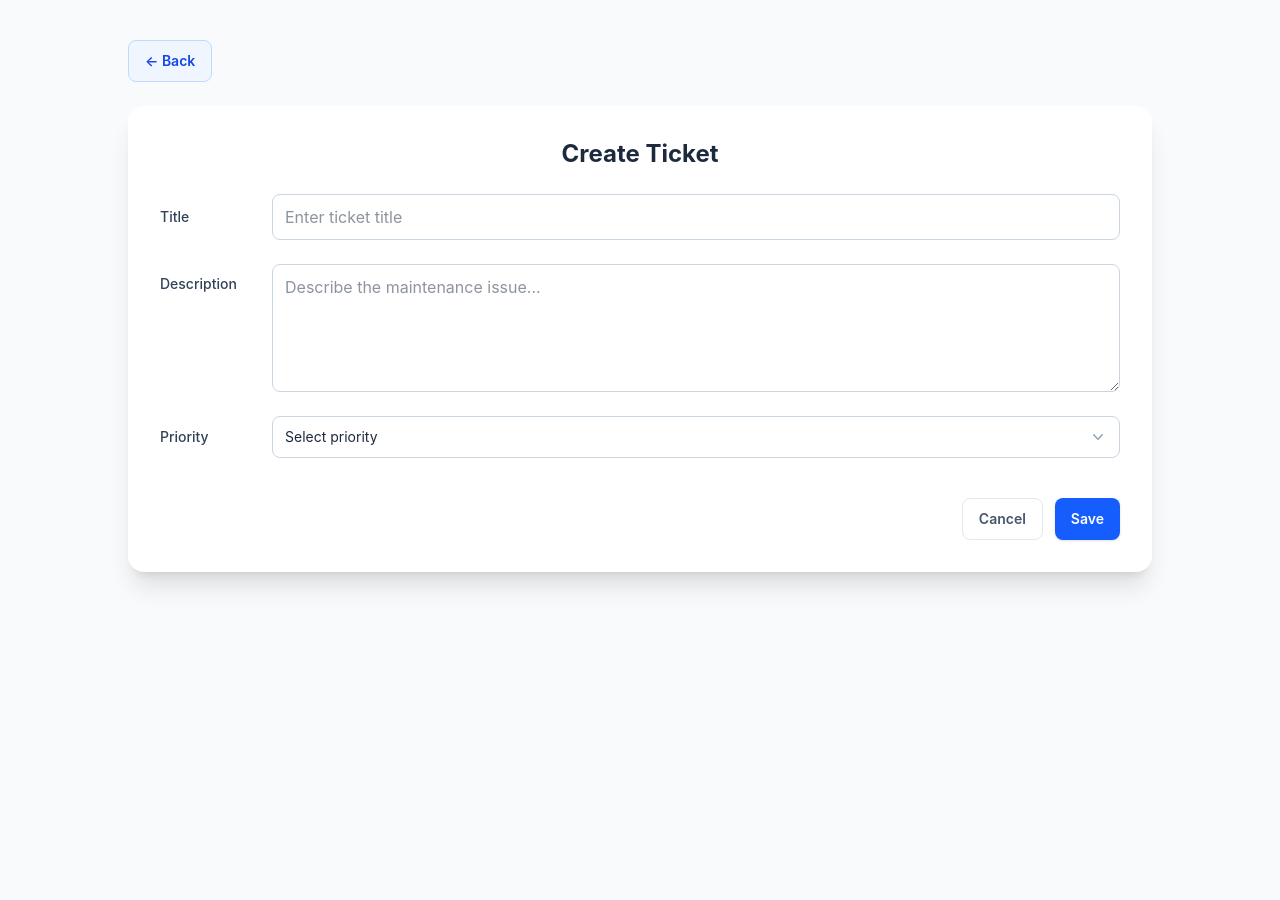
it: CreateTicket page › waits for confirmation, sends the exact request, displays the result, and resets the form
Type "Repair leaking pipe" into the field labelled "Title". click: (696,217)
box: [272, 194, 1120, 240]
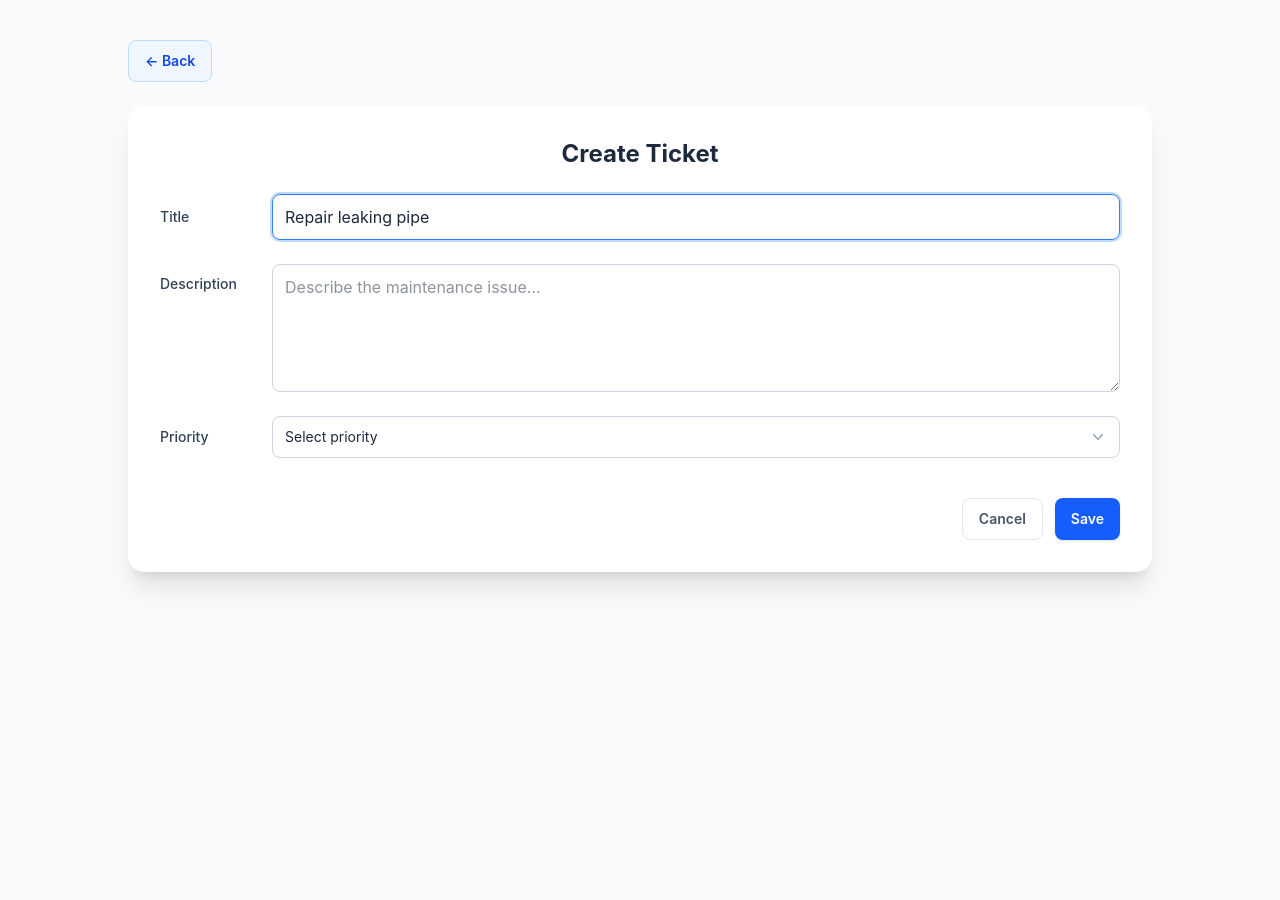
Type "Pipe leak in kitchen" into the text box labelled "Description". click: (696,328)
box: [272, 264, 1120, 392]
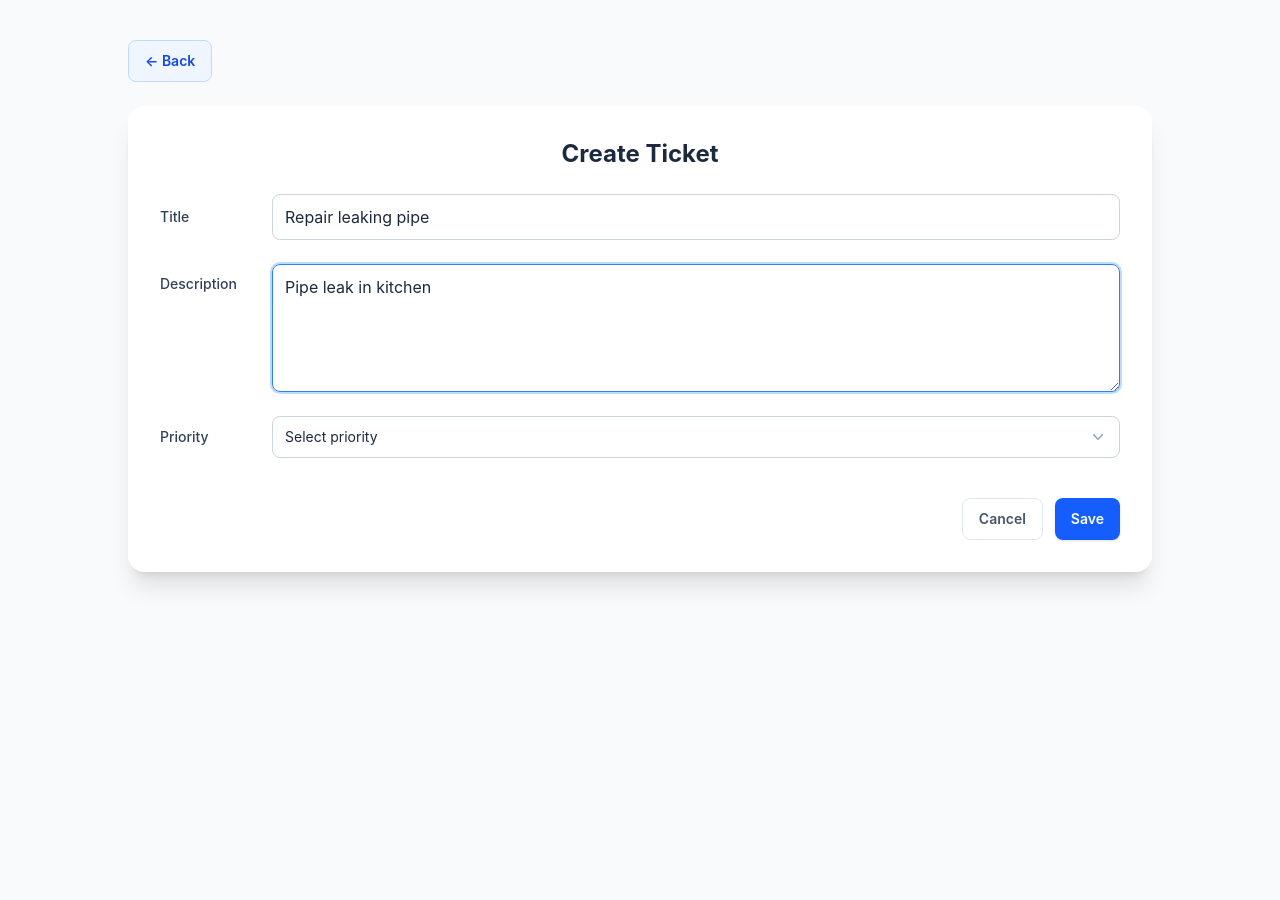
Select "High" in the dropdown labelled "Priority". click: (696,437)
box: [272, 416, 1120, 458]
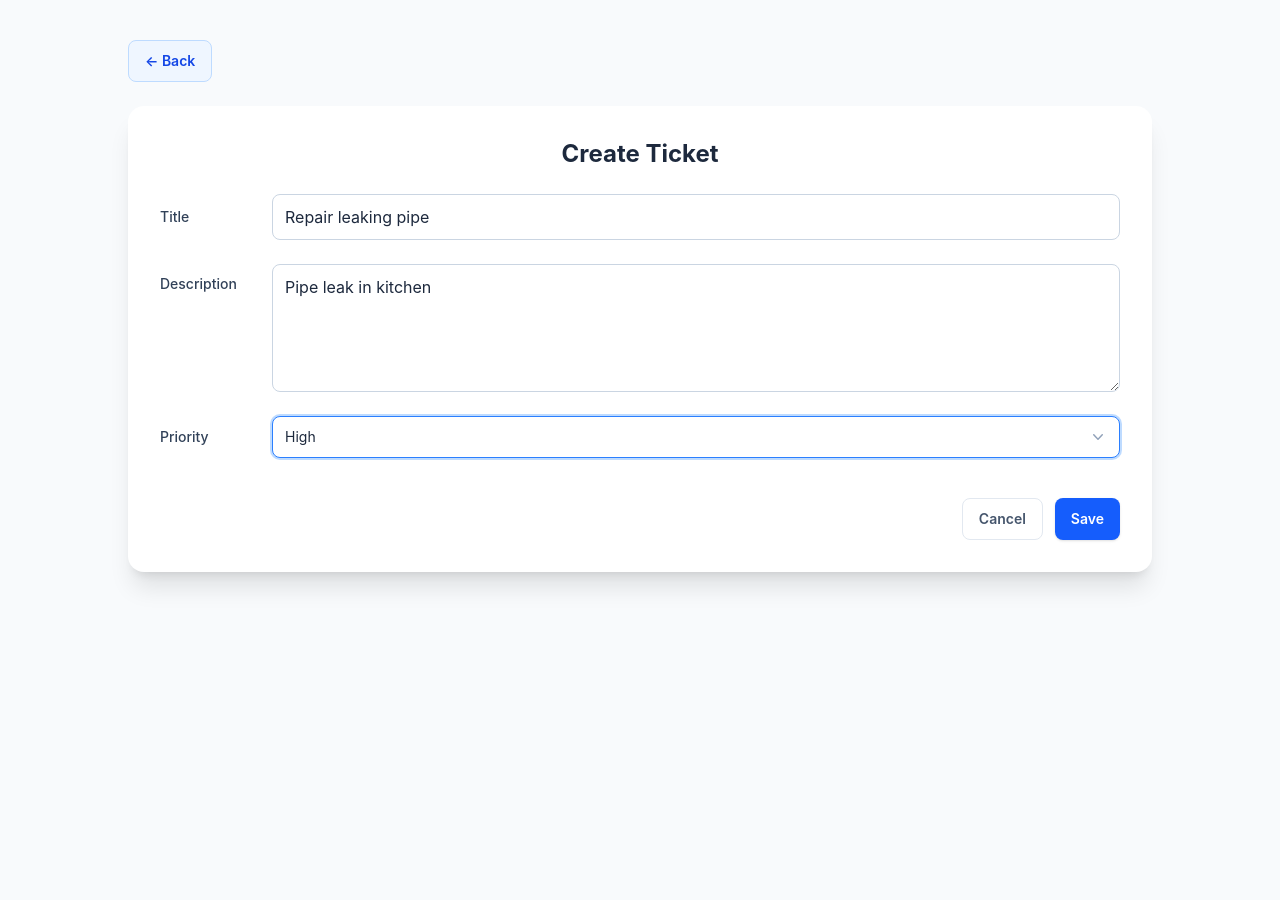
Click the button "Save". click: (1087,519)
box: [1055, 498, 1120, 540]
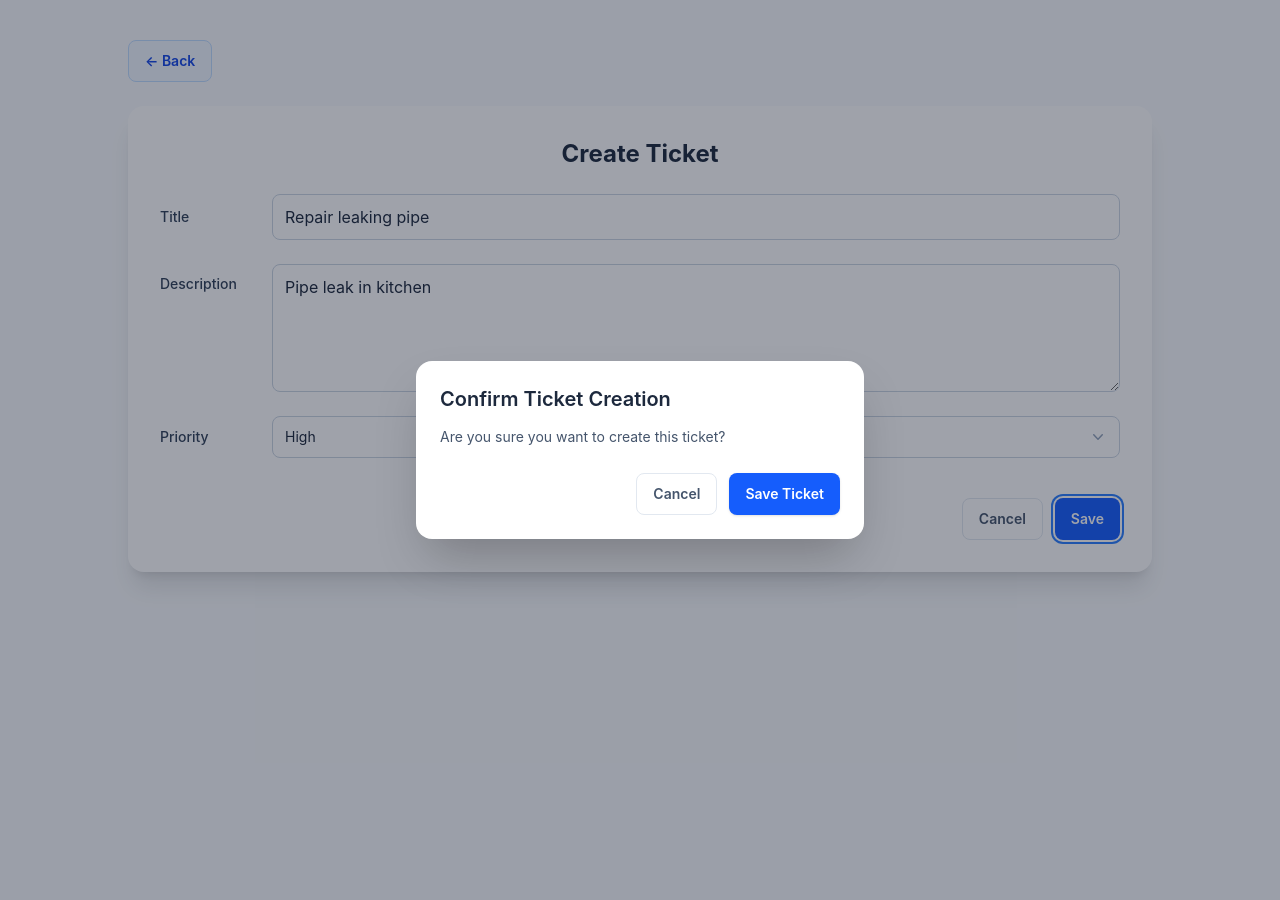
Result: the heading "Confirm Ticket Creation" is shown at [440, 387, 671, 411]
Click the button "Save Ticket". click: (785,494)
box: [729, 473, 840, 515]
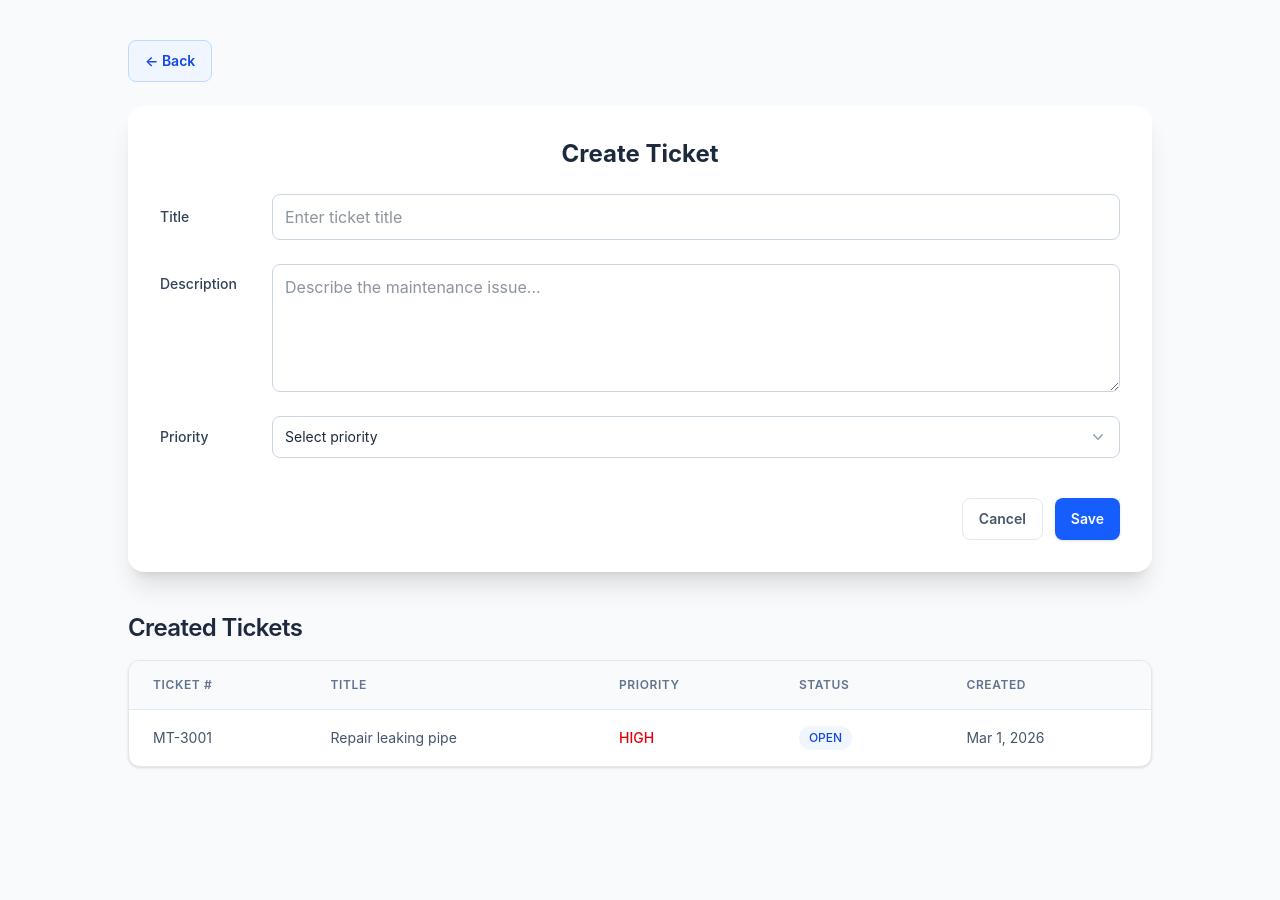
Result: the heading "Created Tickets" is shown at [128, 613, 302, 642]
Result: the text "Repair leaking pipe" is shown at [306, 710, 595, 766]
Result: the text "HIGH" is shown at [619, 729, 654, 746]
